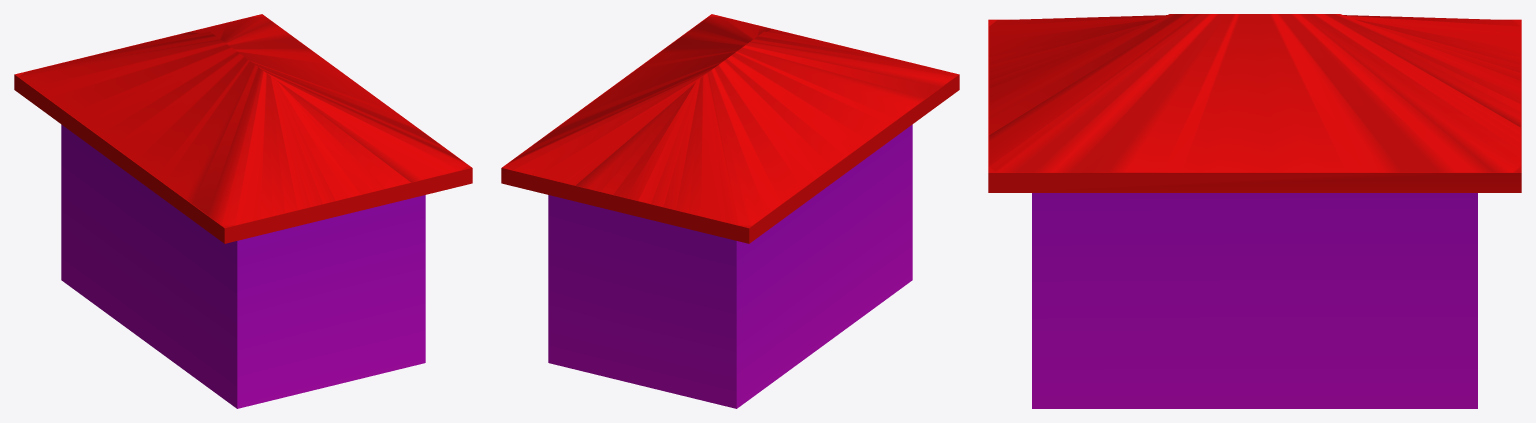
The picture shows the model from 3 angles, left to right: view 1: azimuth 30°, elevation 25°; view 2: azimuth 150°, elevation 25°; view 3: azimuth 270°, elevation 25°; orthographic projection. The views are drawn at different scales.
Parts seen in each view (by area): view 1: walls, eaves; view 2: walls, eaves; view 3: walls, eaves.
Part boxes in pixels (x1,y1,x2,y2): walls: [61, 124, 425, 408]; eaves: [14, 14, 472, 243]; walls: [548, 124, 912, 408]; eaves: [501, 14, 959, 243]; walls: [1032, 193, 1477, 408]; eaves: [988, 14, 1521, 192].
Size of the model in its own units: 0.8165 by 0.8357 by 1.2.
